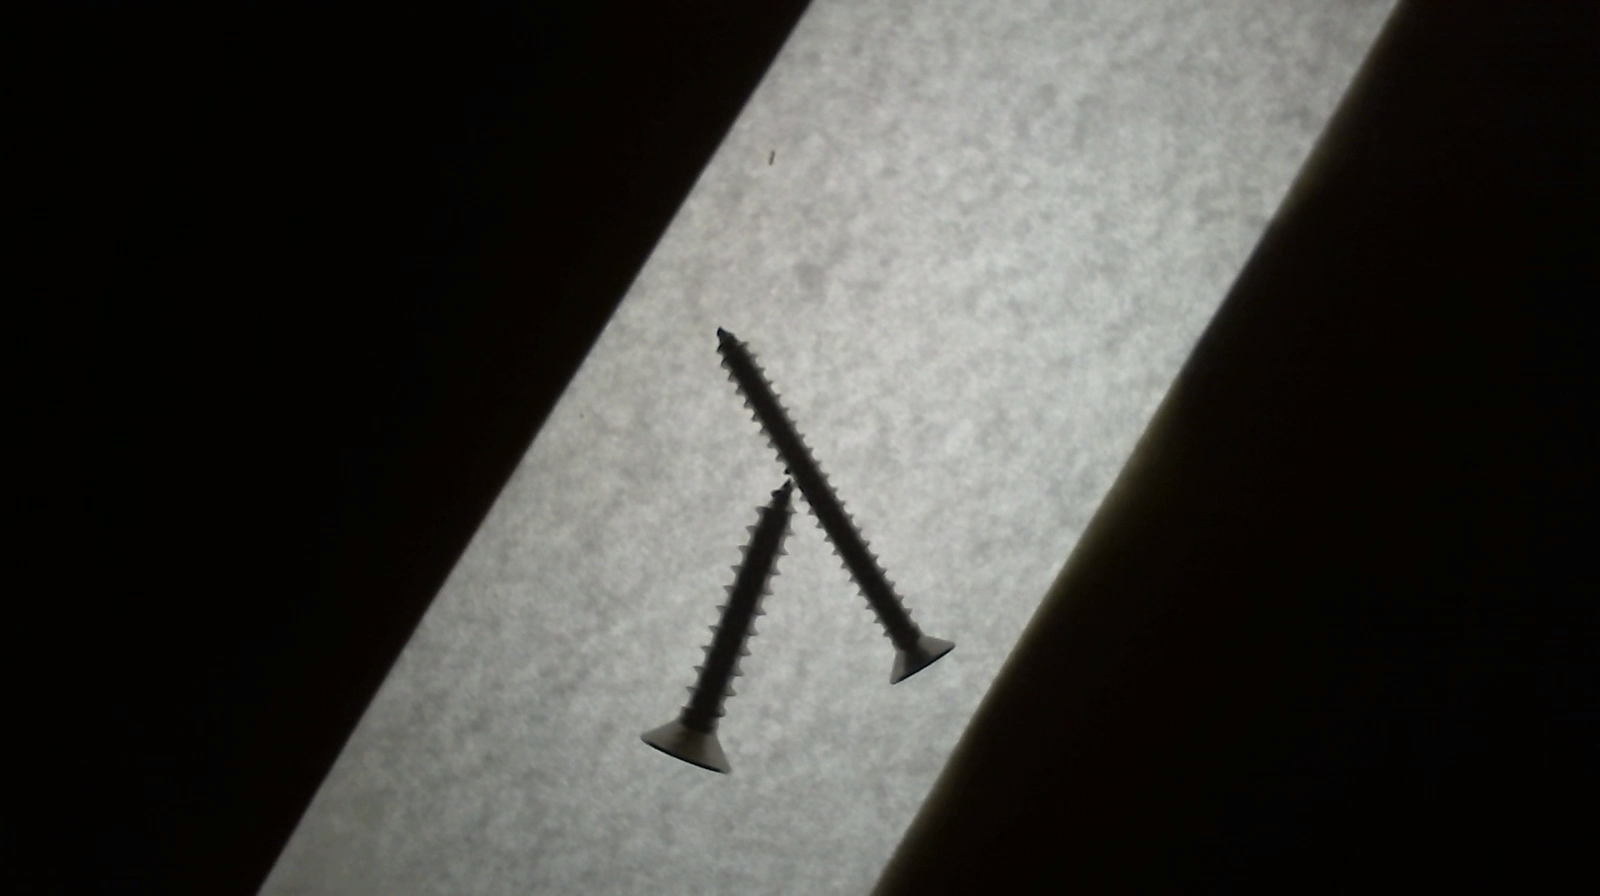S001: (636, 471, 786, 774)
S002: (714, 321, 960, 685)
